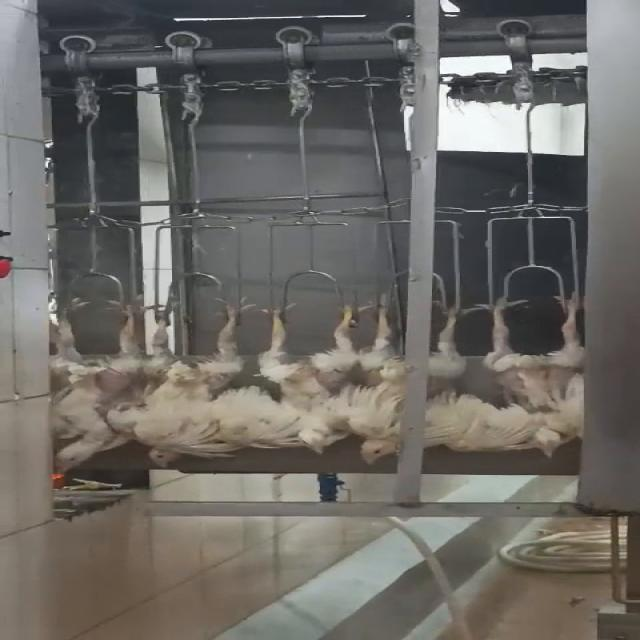chicken: (135, 302, 275, 470), (348, 301, 486, 465), (40, 294, 156, 473), (256, 304, 373, 455), (482, 290, 584, 458)
